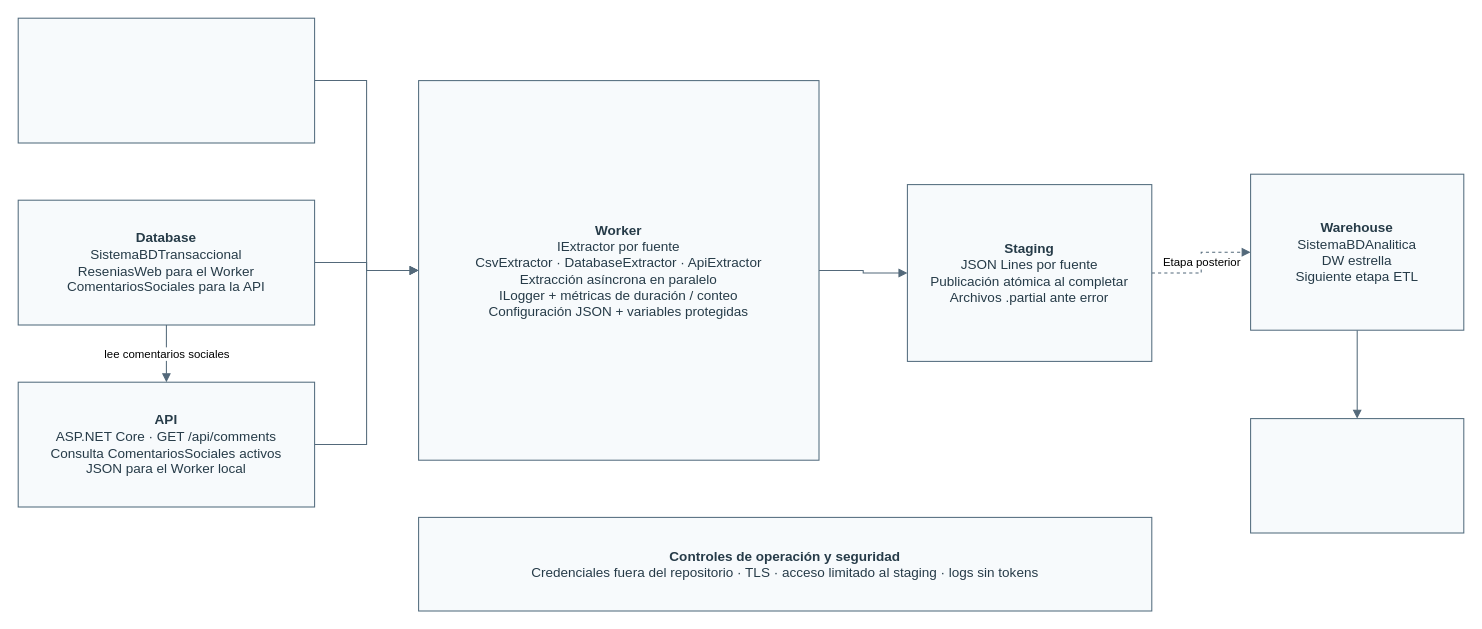
This 1482x629 diagram has some shape labels left out. The centre of each missing label's shape, as x and y in pixels:
CSV DatosCSV/surveys_part1.csv Lectura secuencial y mapeo de columnas: point (166, 80)
Dashboard Consultas agregadas Consumidor analítico: point (1357, 475)
